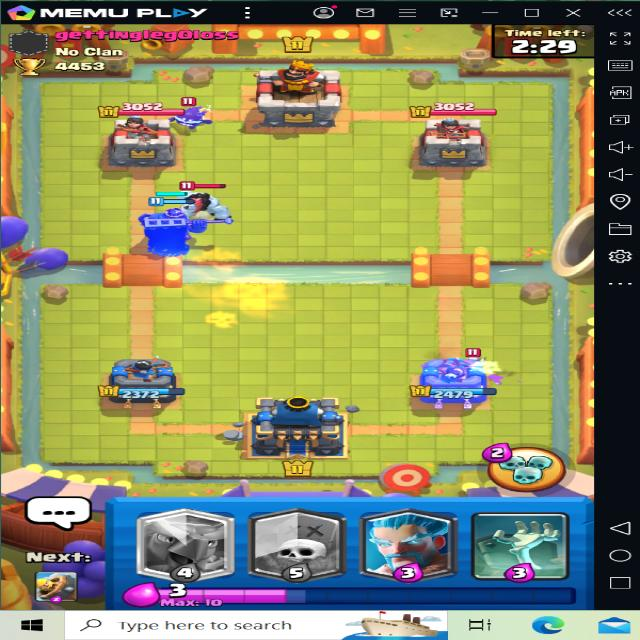electro-spirit: (175, 95, 212, 133)
ice-golem: (172, 182, 244, 228)
skeleton: (457, 342, 494, 370)
